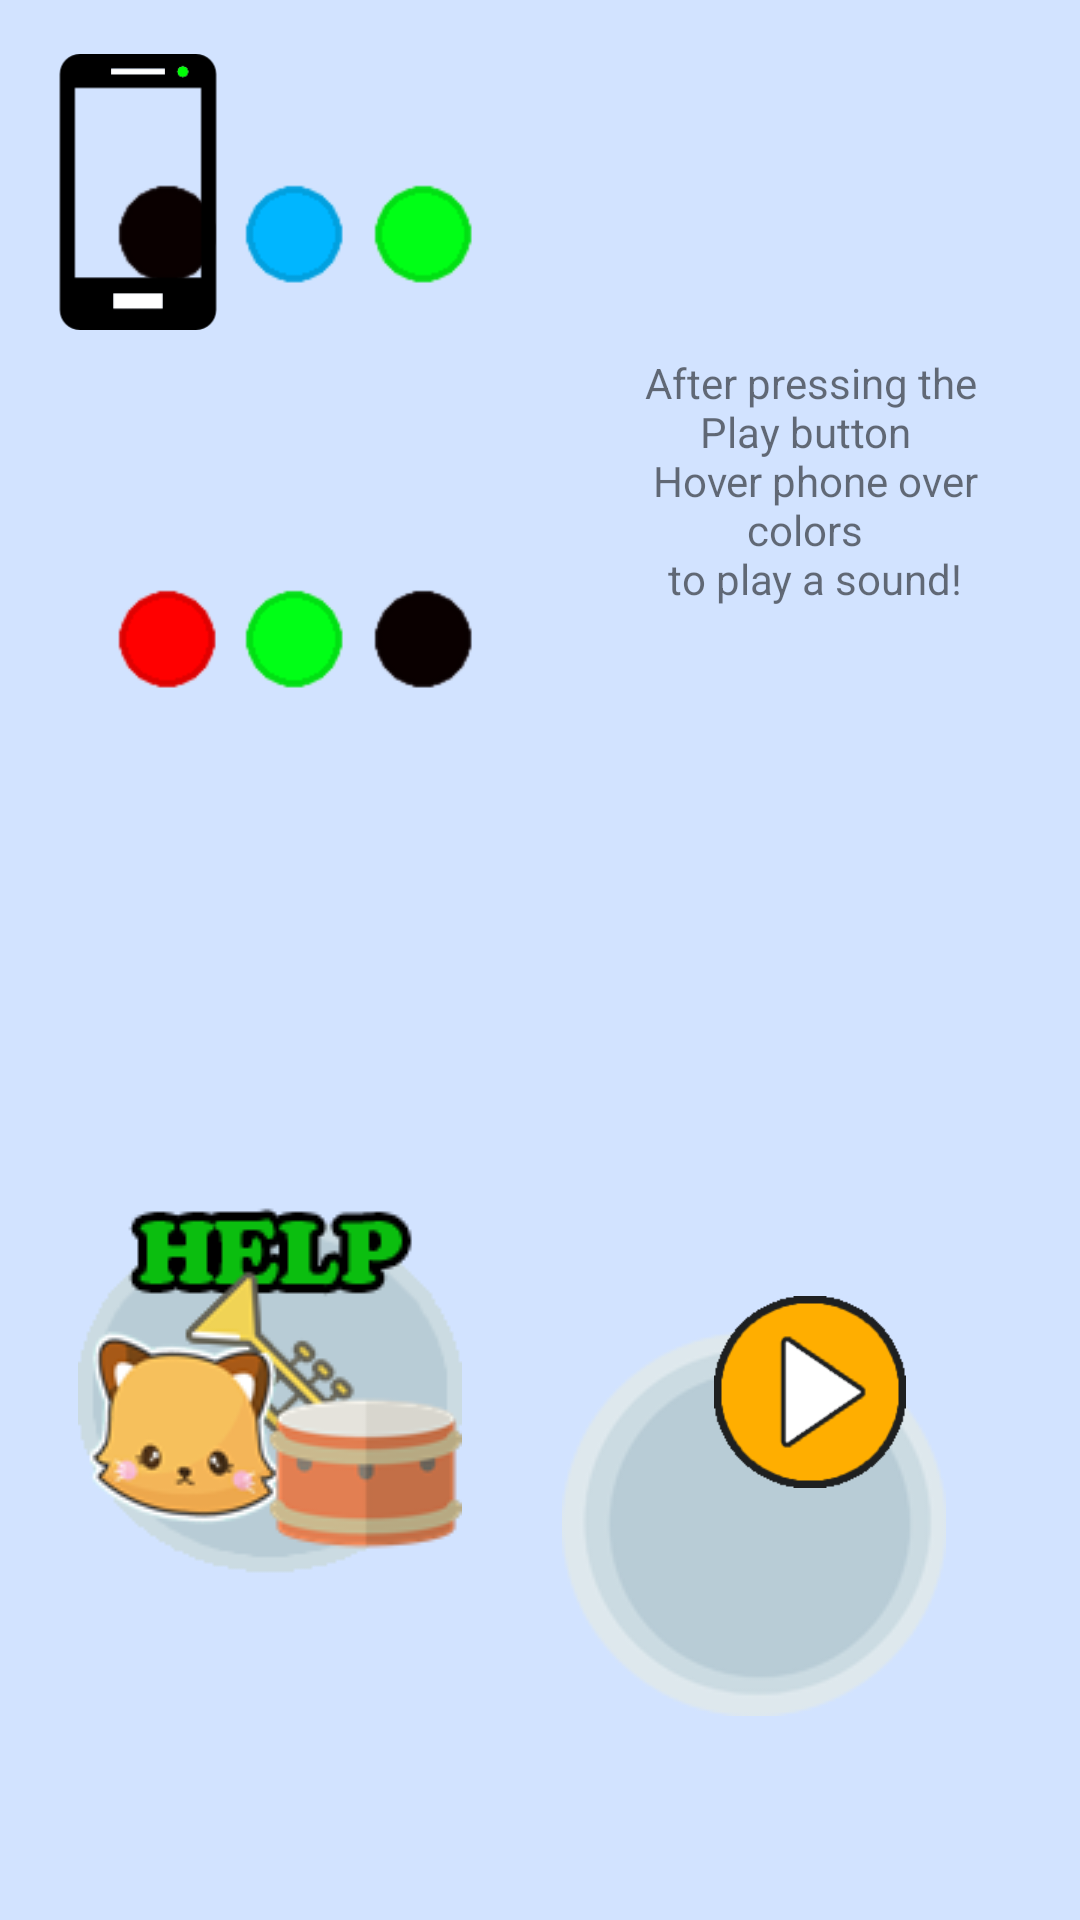

Icon click points for this 1080 x 1920 phone screenshot, format [x,y]:
play: [810,1392]
